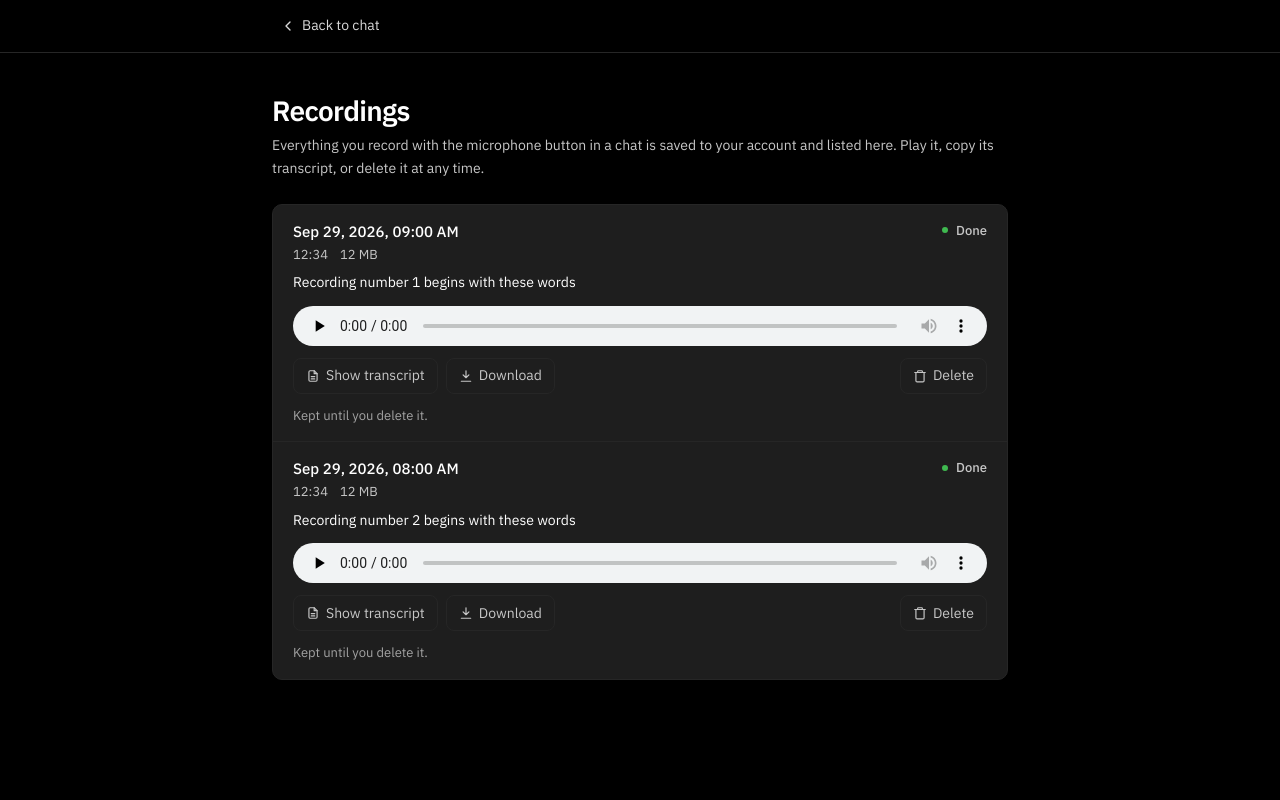
deleting › asks first, and does nothing when the person cancels
The width and height of the screenshot is (1280, 800).
Click the button named "Delete the recording from" at (943, 376), box x1=900 y1=358 x2=987 y2=394
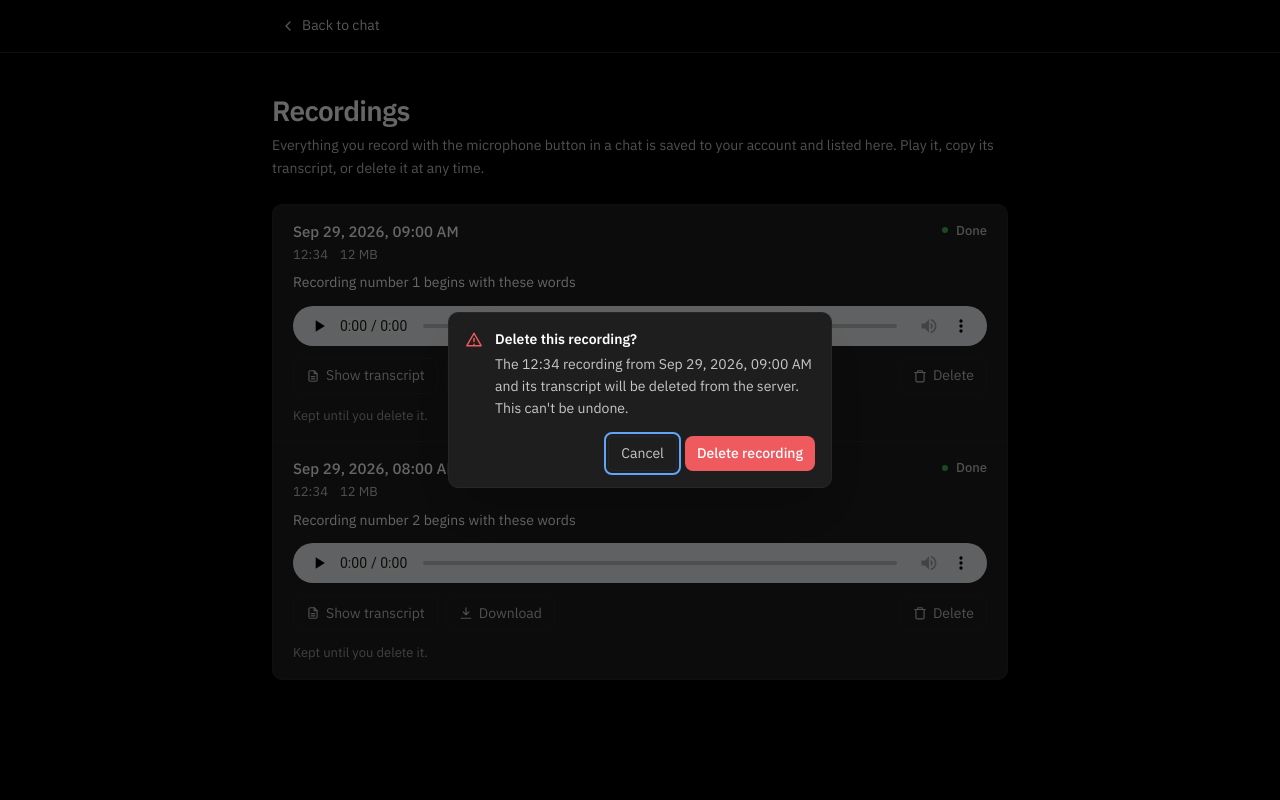
Check: the dialog "Delete this recording?" shows "This can't be undone.", box x1=495 y1=356 x2=812 y2=417
Click the button "Cancel" at (643, 453), box x1=608 y1=436 x2=677 y2=471
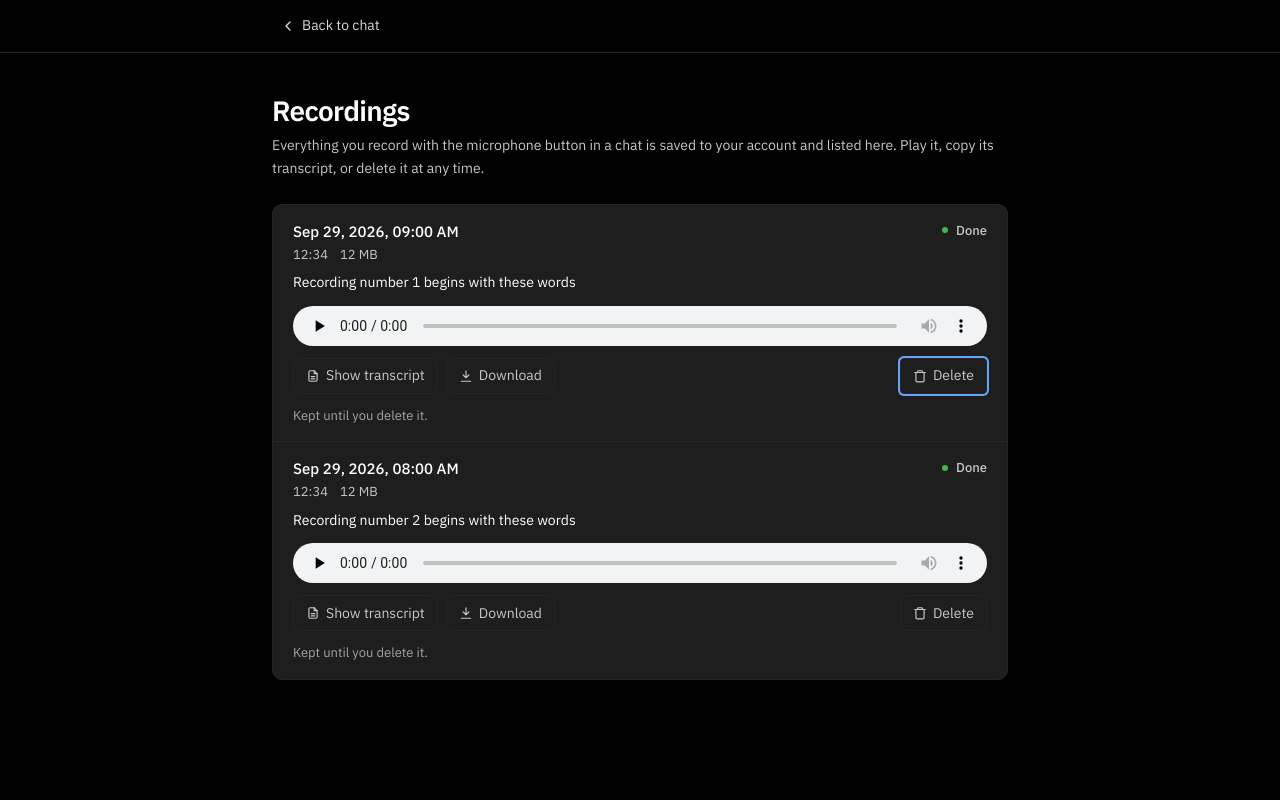
Check: the number of list items is 2, box x1=273 y1=204 x2=1007 y2=441; x1=273 y1=441 x2=1007 y2=679
Check: the dialog is gone
